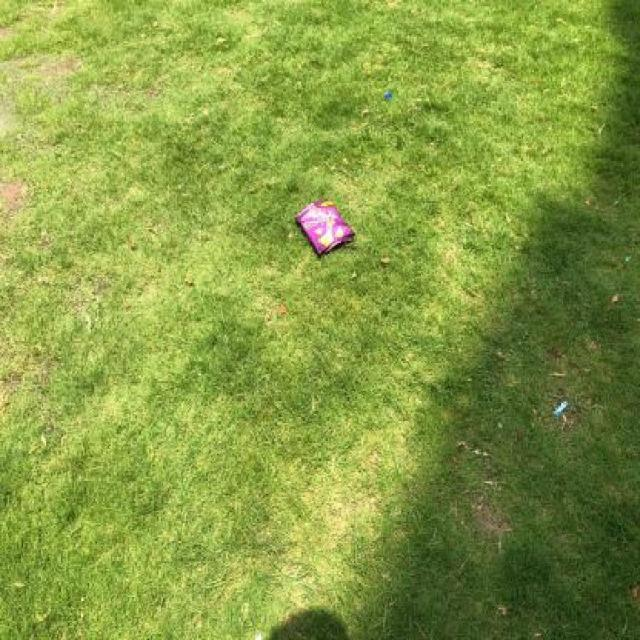garbage: (280, 193, 364, 272)
